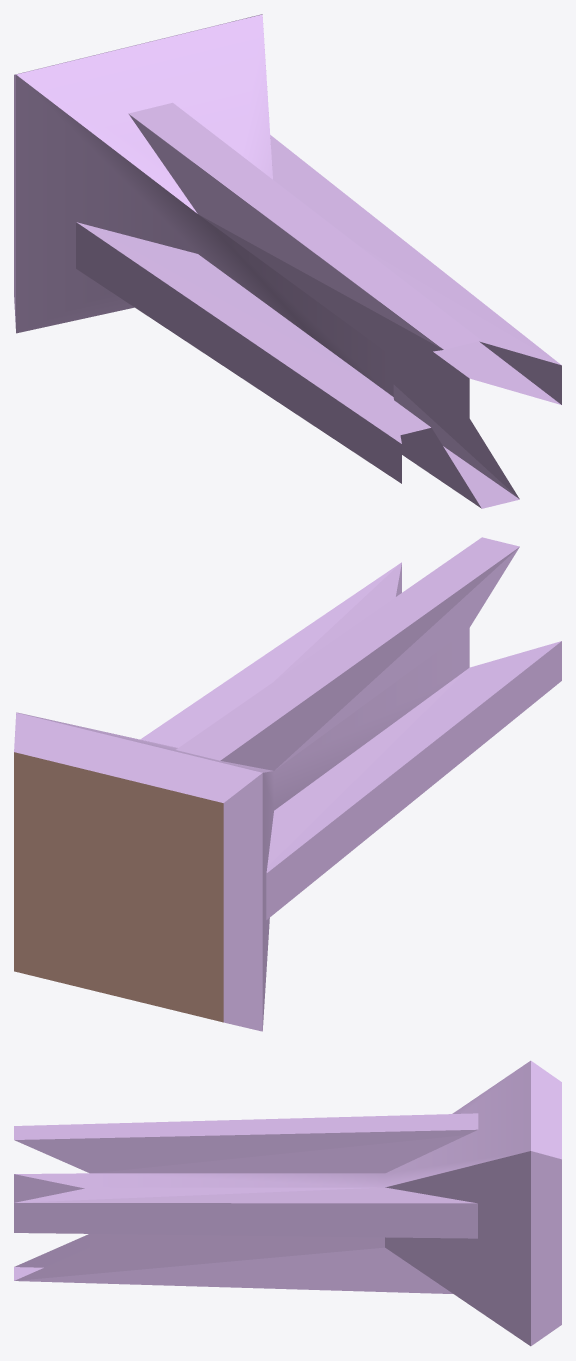
The picture shows the model from 3 angles, top to bottom: view 1: azimuth 30°, elevation 25°; view 2: azimuth 150°, elevation 25°; view 3: azimuth 270°, elevation 25°; orthographic projection. The views are drawn at different scales.
Parts seen in each view (by area): view 1: Object13; view 2: Object13; view 3: Object13.
Part boxes in pixels (bbox=[...]): Object13: bbox=[14, 14, 561, 508]; Object13: bbox=[14, 537, 561, 1031]; Object13: bbox=[14, 1060, 561, 1346].
Bounding box in the file's own units: 11761 × 11820 × 30016.
